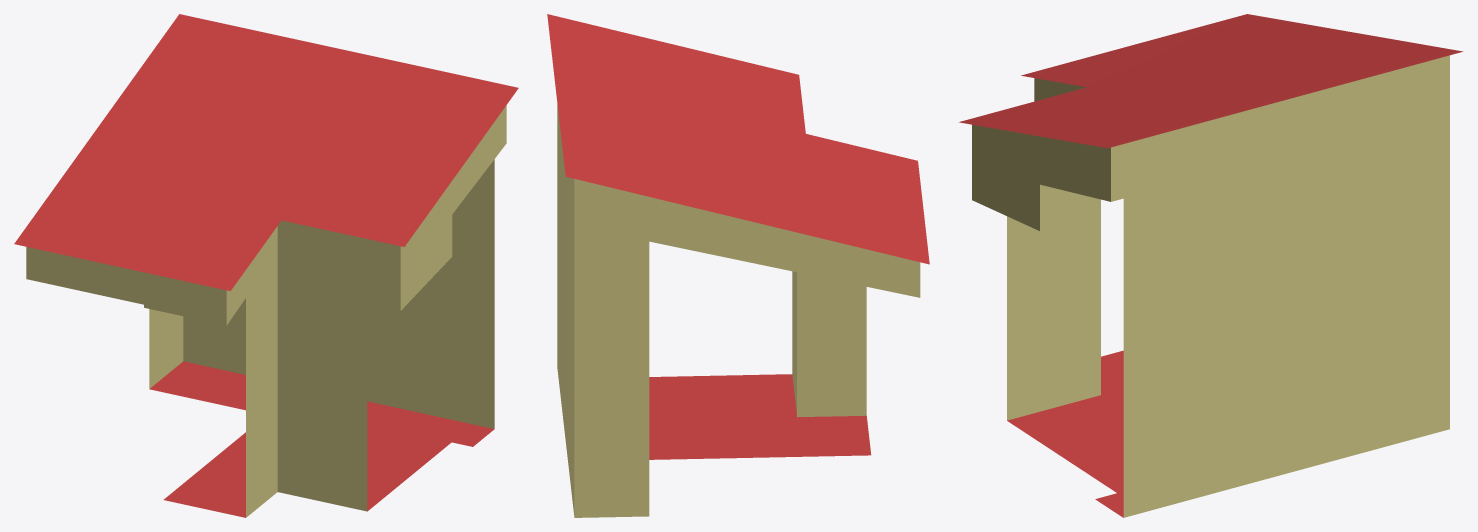
The picture shows the model from 3 angles, left to right: view 1: azimuth 30°, elevation 25°; view 2: azimuth 150°, elevation 25°; view 3: azimuth 270°, elevation 25°; orthographic projection. The views are drawn at different scales.
Bounding box in the file's own units: 14.09 × 12.6 × 10.42.
